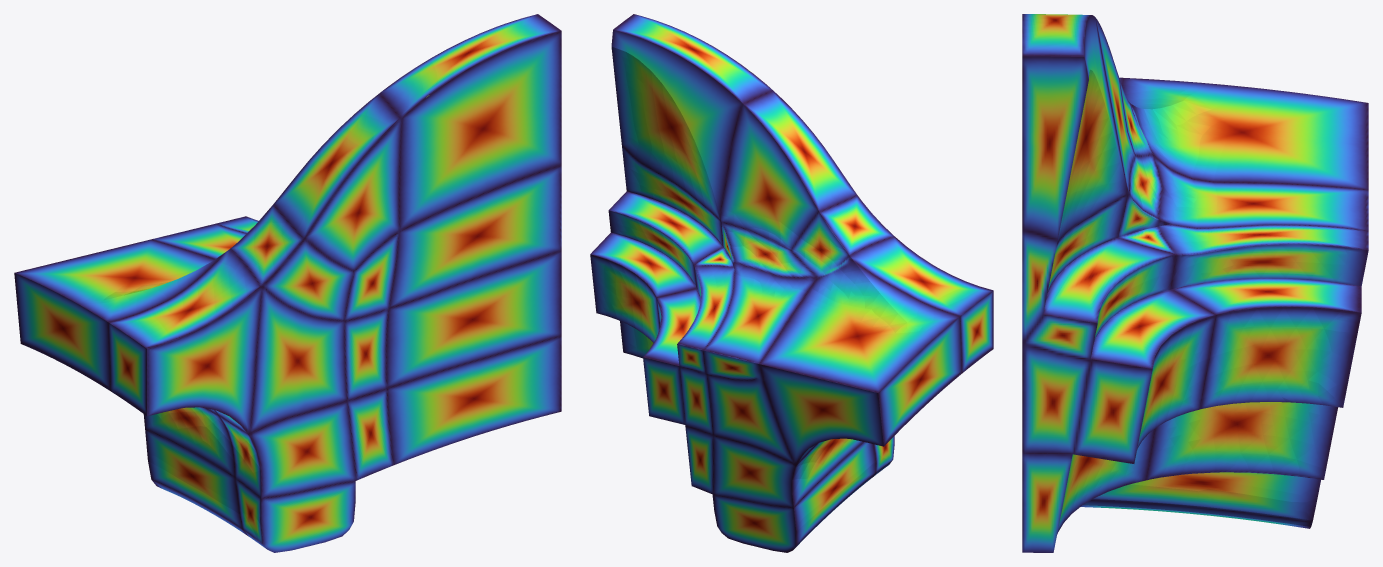
The model's file is gen2.glb.
The picture shows the model from 3 angles, left to right: view 1: azimuth 30°, elevation 25°; view 2: azimuth 150°, elevation 25°; view 3: azimuth 270°, elevation 25°; orthographic projection. The views are drawn at different scales.
Visible parts, largest first — view 1: Node; view 2: Node; view 3: Node.
Part boxes in pixels (x1,y1,x2,y2): Node: (14,14,561,552); Node: (590,14,993,552); Node: (1022,14,1368,552).
Bounding box in the file's own units: 4.83 × 5.24 × 2.68.
1 material, 1 textured.
